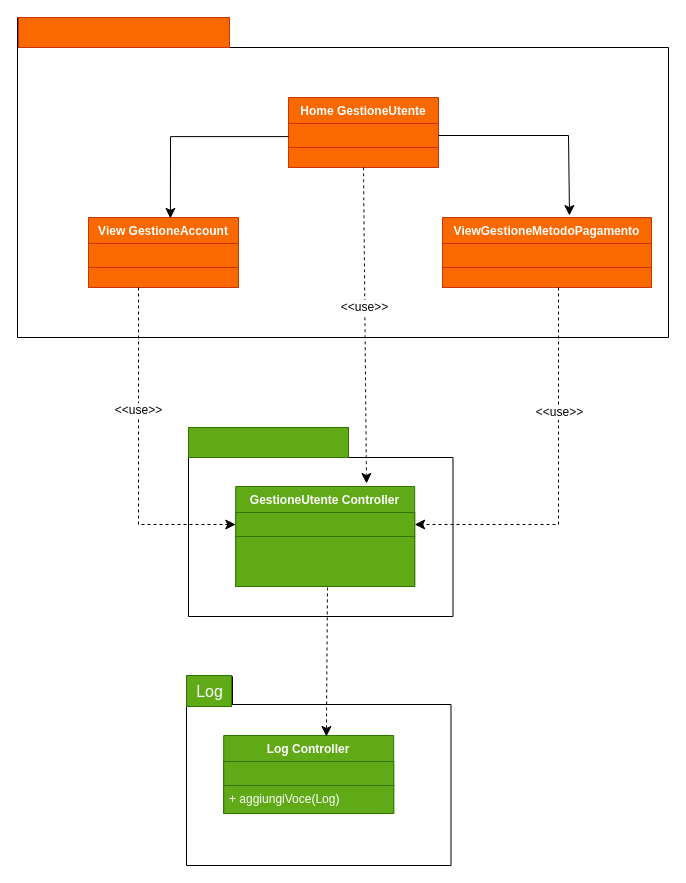
Image size: 686x883. Some labels were removed from this diagram. Here are the shapes that lost their labels. From the top down, the centre of each, then its label:
point 124,32: Interfaccia GestioneUtente
point 268,442: GestioneUtente
point 325,561: + cambiaNome(string) + cambiaPassword(string) + aggiornaMetodoPagamento()
